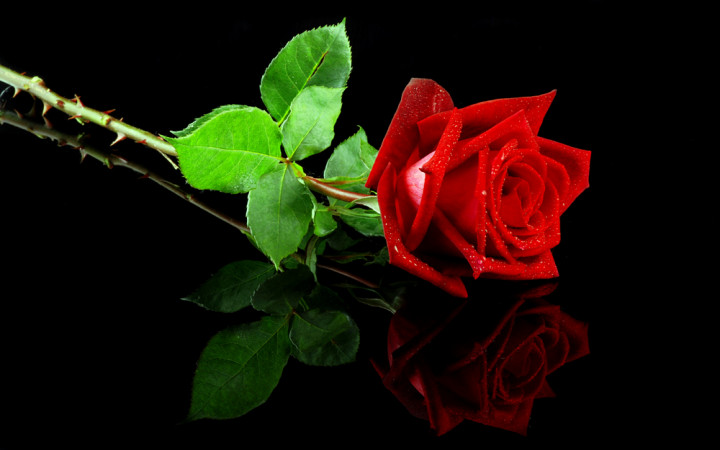rose: (357, 62, 604, 309)
